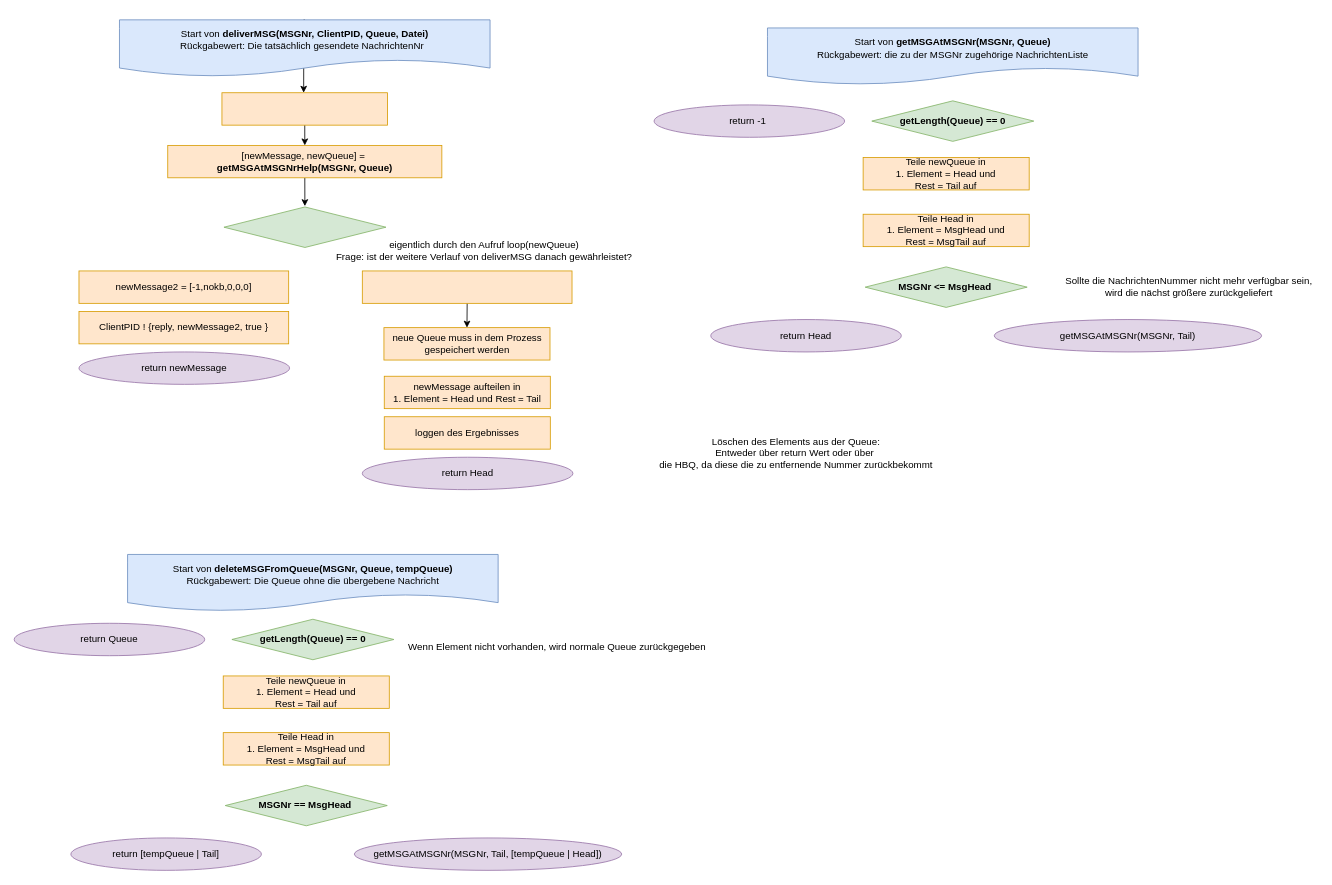
The diagram is 1332 pixels wide and 885 high, and some of its shapes have lost their labels. The shapes that lost their labels are listed below. From the top down, each one's centre as x and y in pixels, then its label:
the point at 304,108: TSdlqout = erlang:timestamp()
the point at 304,226: newMessage == -1
the point at 467,286: ClientPID ! {reply, [newMessage | TSdlqout], false }
